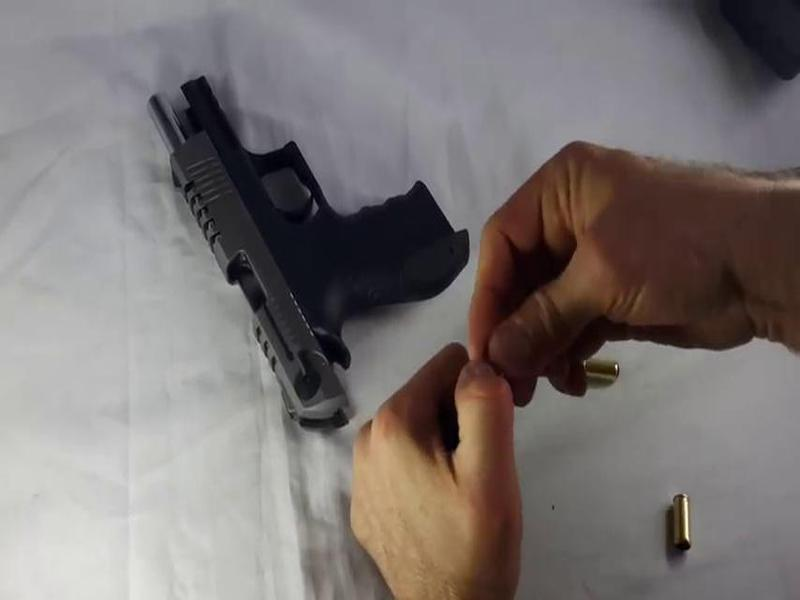Pistola: (152, 54, 470, 454)
